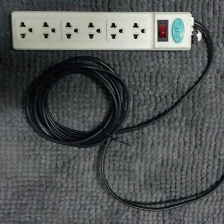three_eye_plug: (6, 7, 198, 54)
